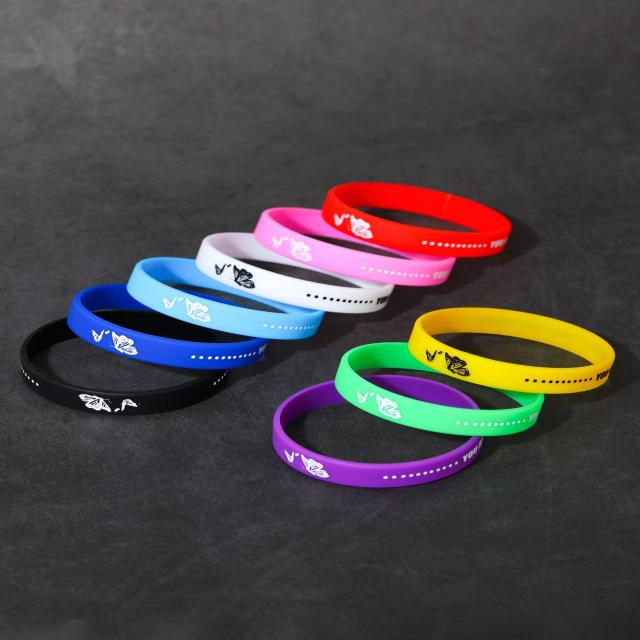bracelet: (0, 156, 640, 542)
